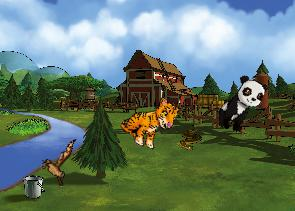eagle: (40, 139, 77, 187)
panda: (212, 71, 270, 138)
tiger: (116, 86, 183, 155)
